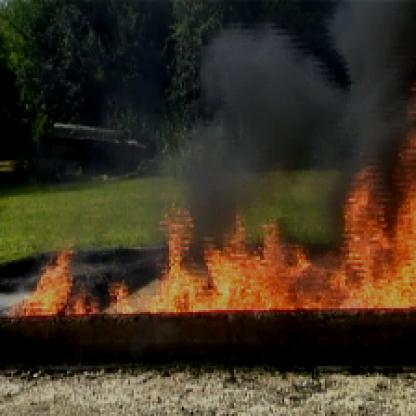Fire: (113, 165, 414, 318), (2, 240, 108, 321)
Smoke: (216, 11, 414, 160)
